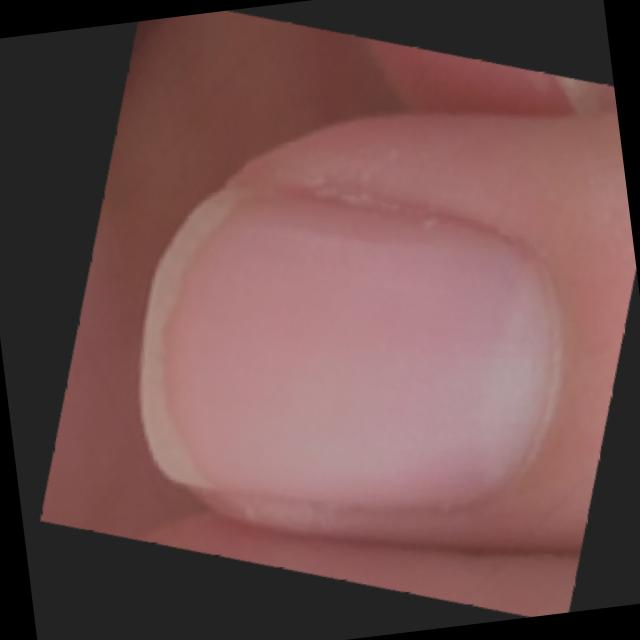Nail: (139, 181, 554, 513)
